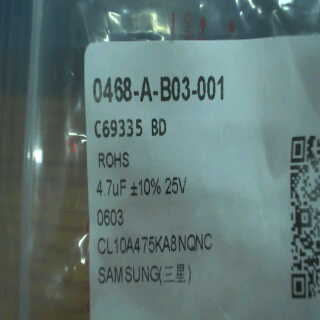4.7uF: (94, 175, 127, 200)
